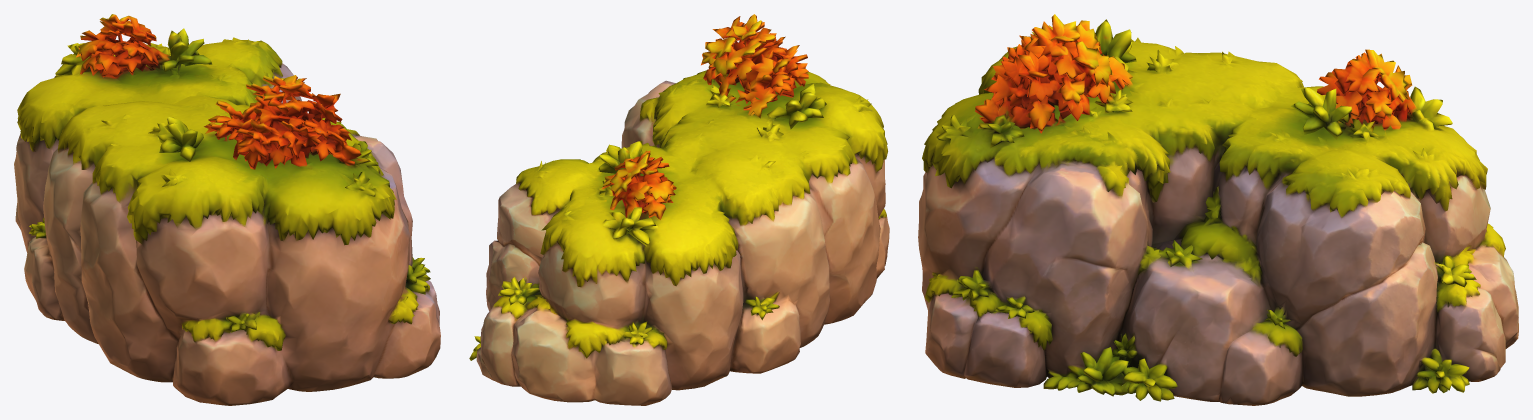
Rendered from P_Cliff_A_HD_src.glb.
3 renders of one model, left to right at view 1: azimuth 30°, elevation 25°; view 2: azimuth 150°, elevation 25°; view 3: azimuth 270°, elevation 25°, orthographic. The views are drawn at different scales.
Visible parts, largest first — view 1: tripo_node_8939ec07-02f7-4de7-af3c-0078afb285ed; view 2: tripo_node_8939ec07-02f7-4de7-af3c-0078afb285ed; view 3: tripo_node_8939ec07-02f7-4de7-af3c-0078afb285ed.
Part boxes in pixels (x1,y1,x2,y2): tripo_node_8939ec07-02f7-4de7-af3c-0078afb285ed: (14,14,440,405); tripo_node_8939ec07-02f7-4de7-af3c-0078afb285ed: (469,14,889,405); tripo_node_8939ec07-02f7-4de7-af3c-0078afb285ed: (918,14,1518,405).
Size of the model in its own units: 0.654 by 0.5557 by 0.9789.
1 material, 1 textured.
